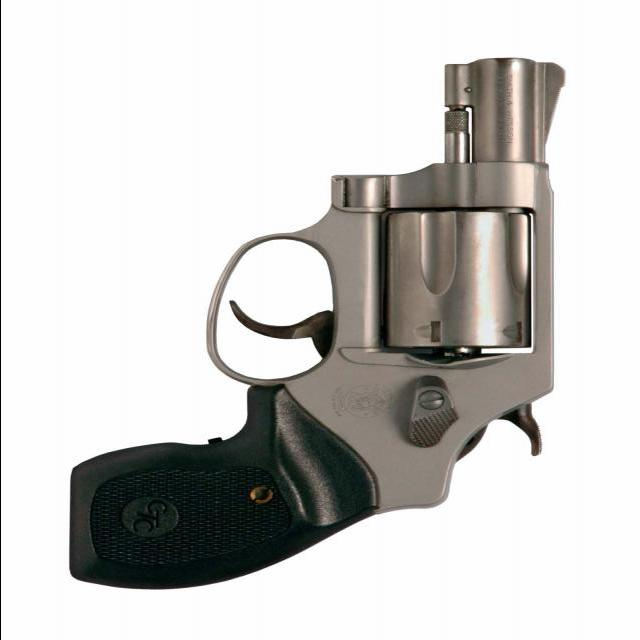pistol: (52, 58, 581, 594)
